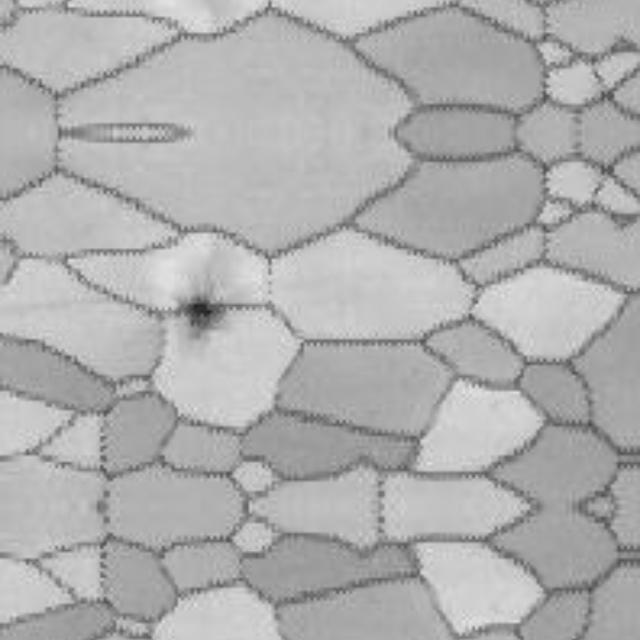good_void: (176, 285, 226, 346)
